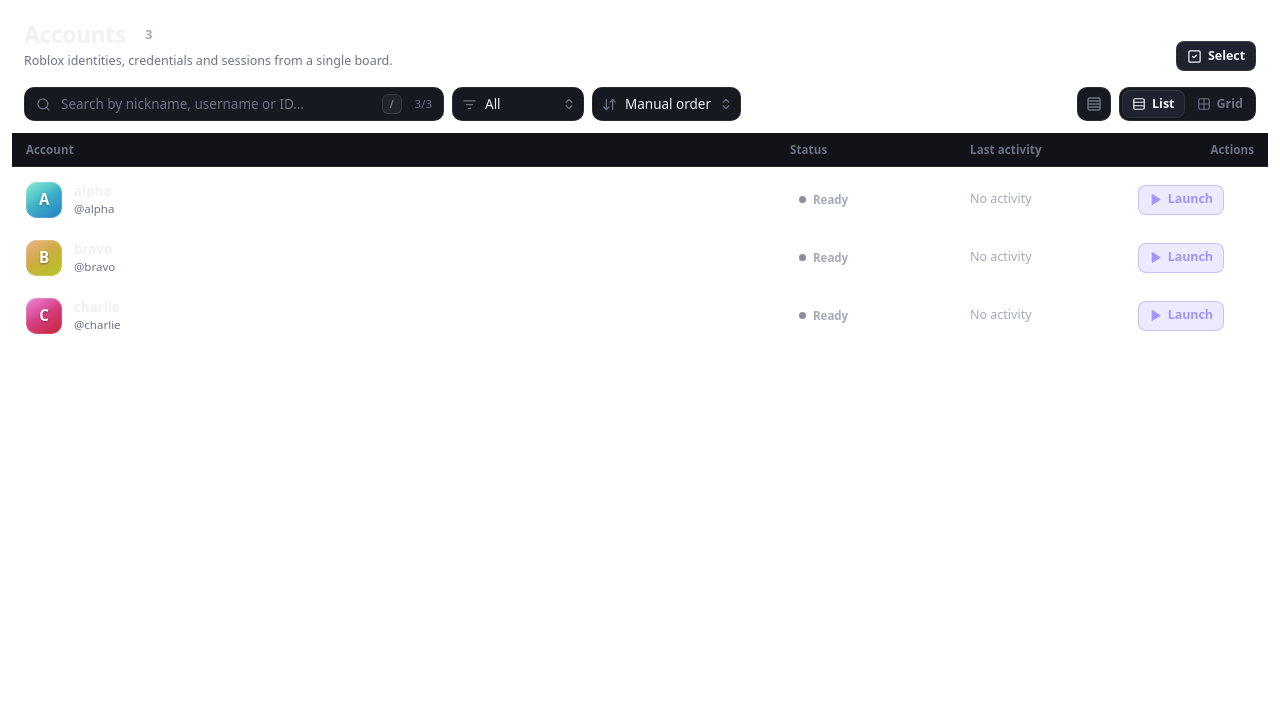
Test: Accounts selection mode + bulk action bar (Req 10.1, 10.2, 10.3, 10.5) › "Select all" marks every visible account under the current search (10.3)
The width and height of the screenshot is (1280, 720).
Click the button "Select".
click(1216, 56)  # box [1176,41,1256,71]
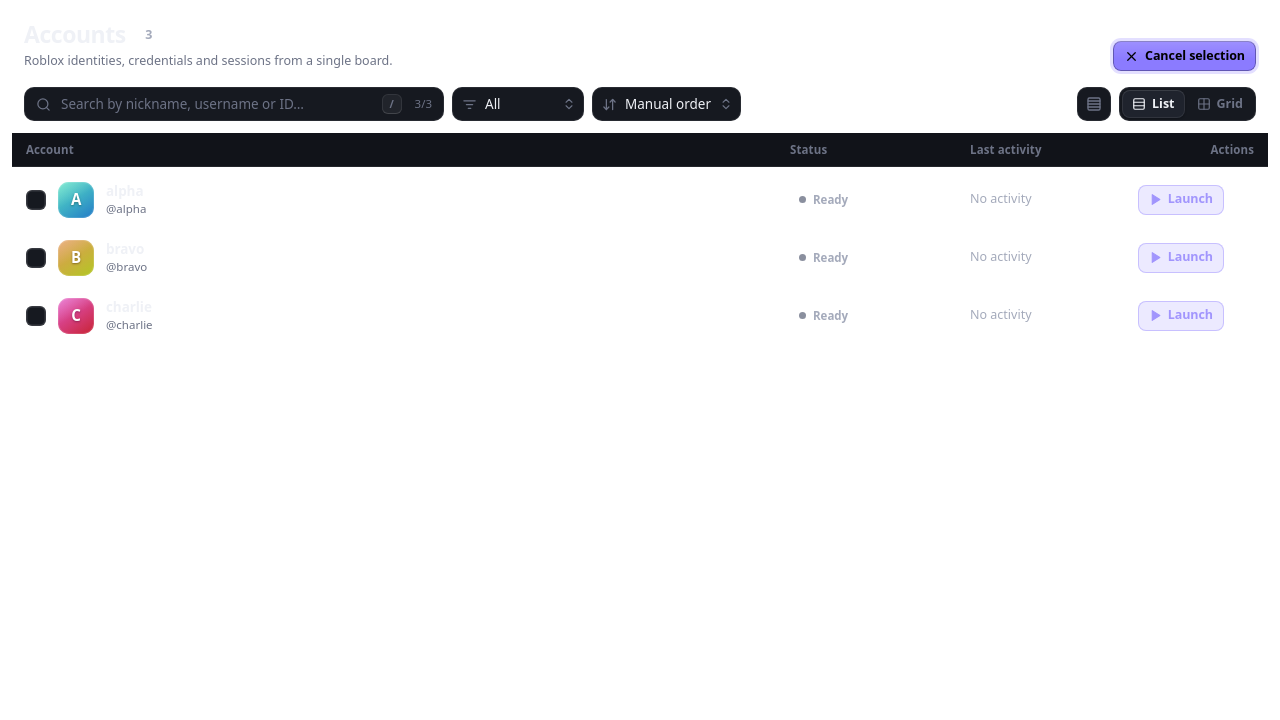
Click the checkbox named "Select" in the row of "@alpha".
click(36, 200)  # box [26,190,46,210]
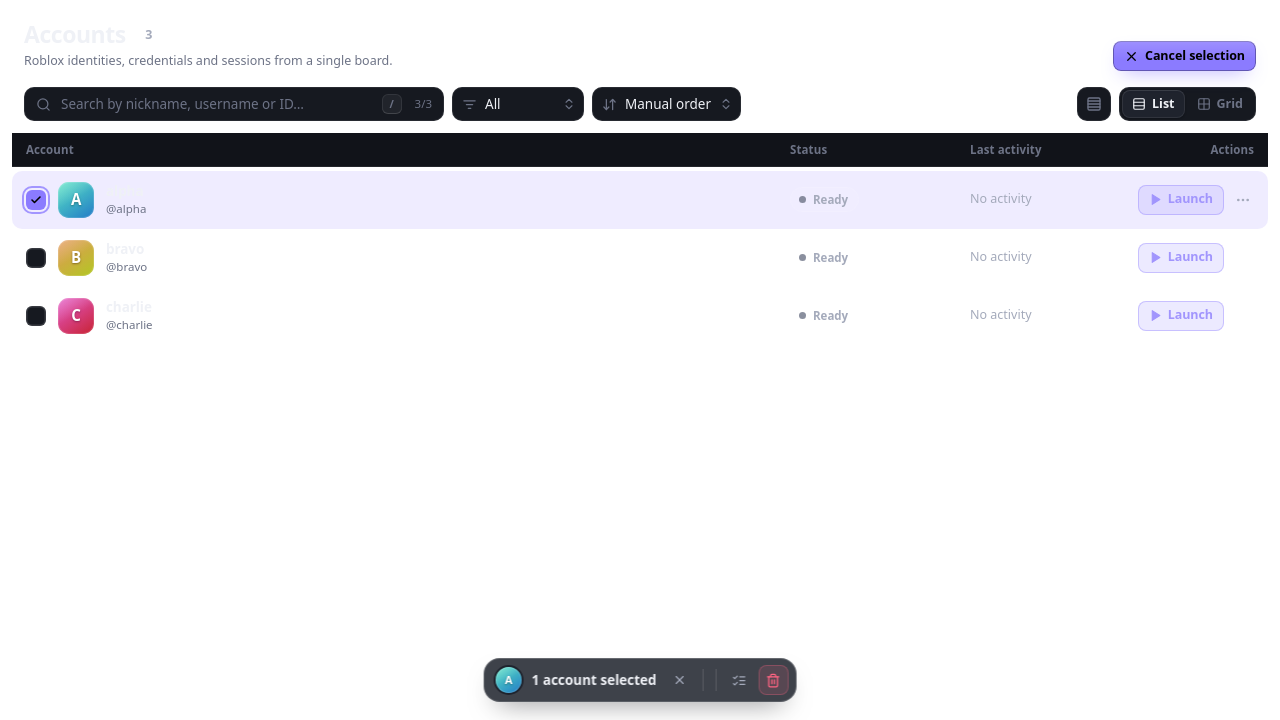
Click the button named "Select all".
click(739, 680)  # box [724,665,754,695]
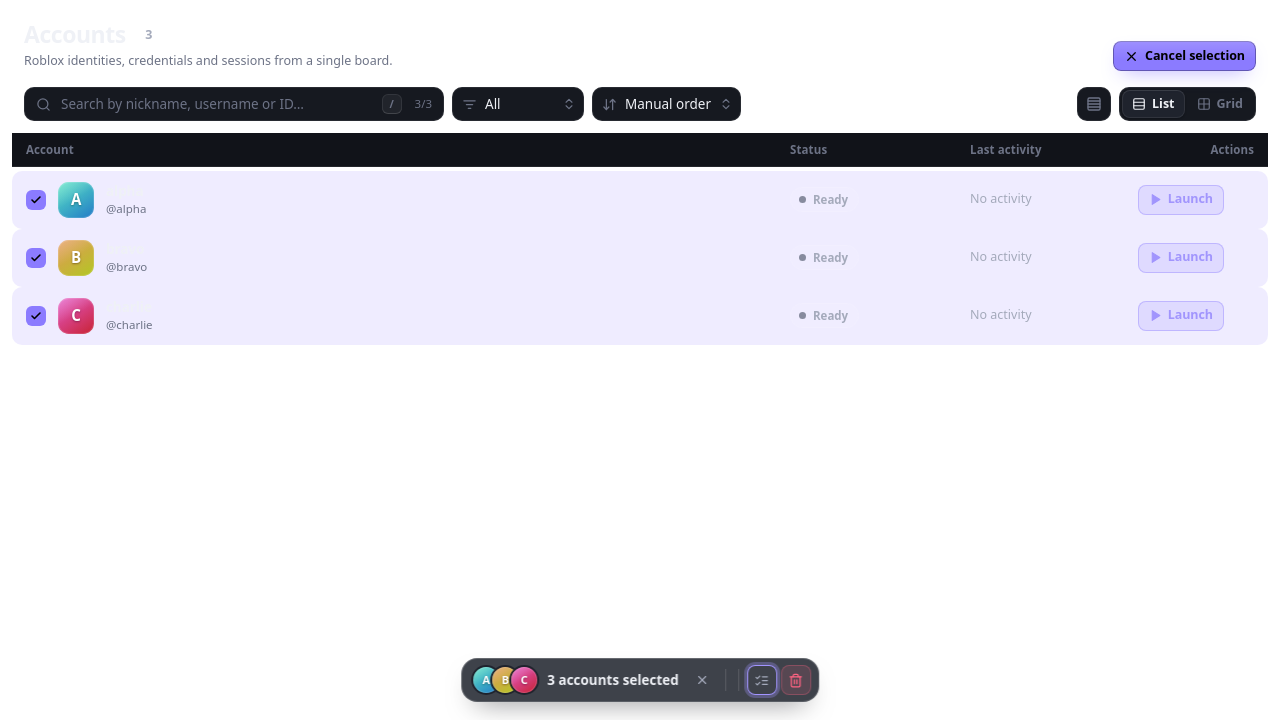
Now the text "3 accounts selected" is shown, box [541,670,683,690]
// Narrow the visible list via search, then select-all only marks the match.
Type "alpha" into the search field named "Search accounts".
click(216, 104); type("alpha")  # box [59,87,373,121]
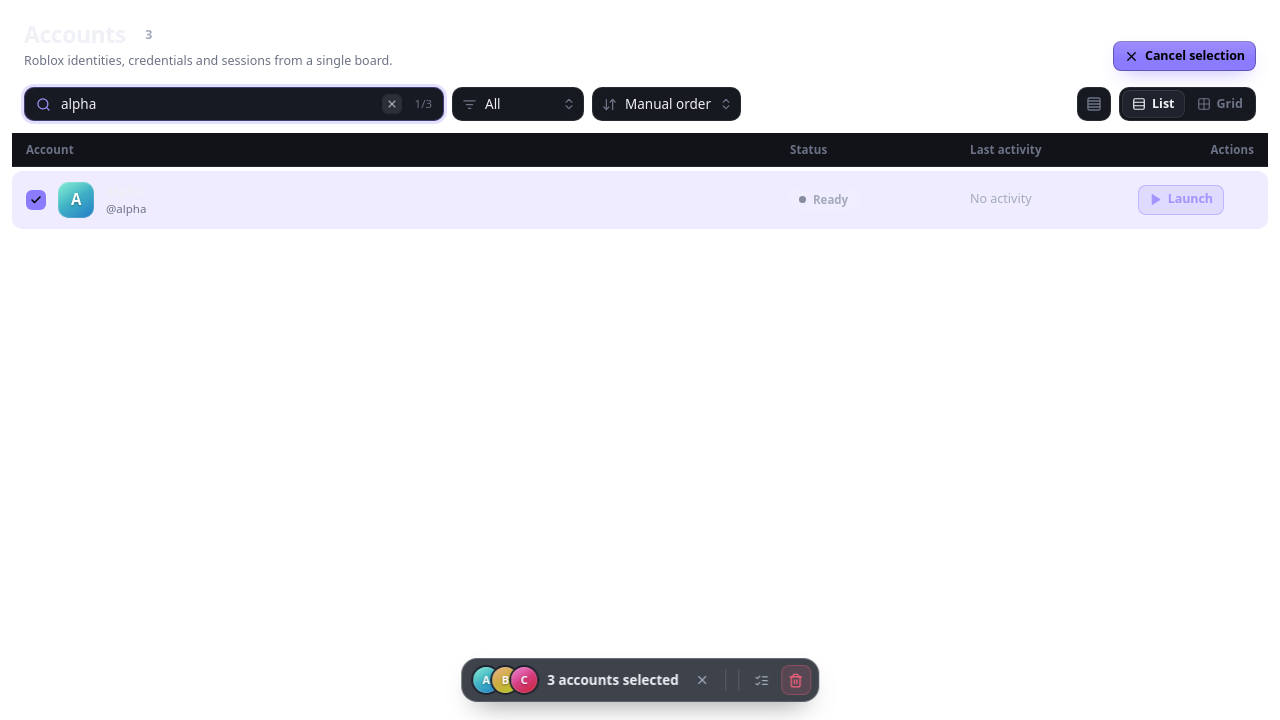
Now the number of checkboxes is 1, box [26,190,46,210]
Click the button named "Select all".
click(762, 680)  # box [747,665,777,695]
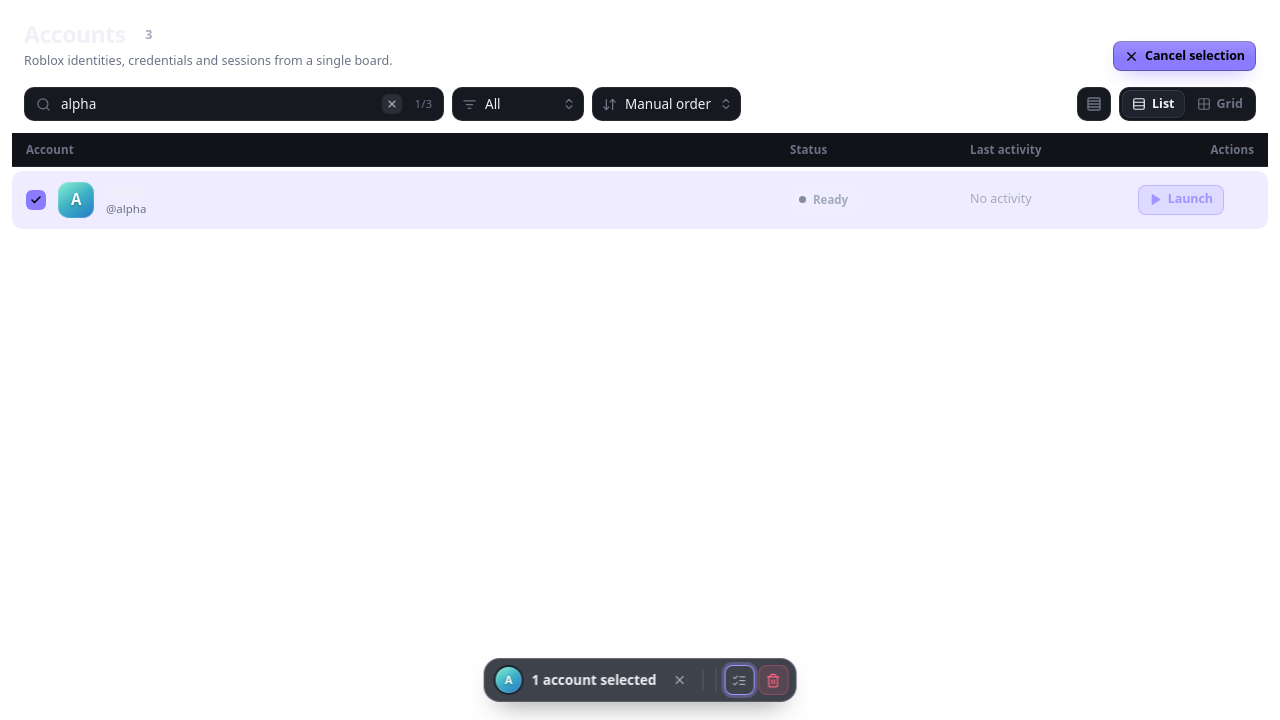
Now the text "1 account selected" is shown, box [526,670,660,690]
